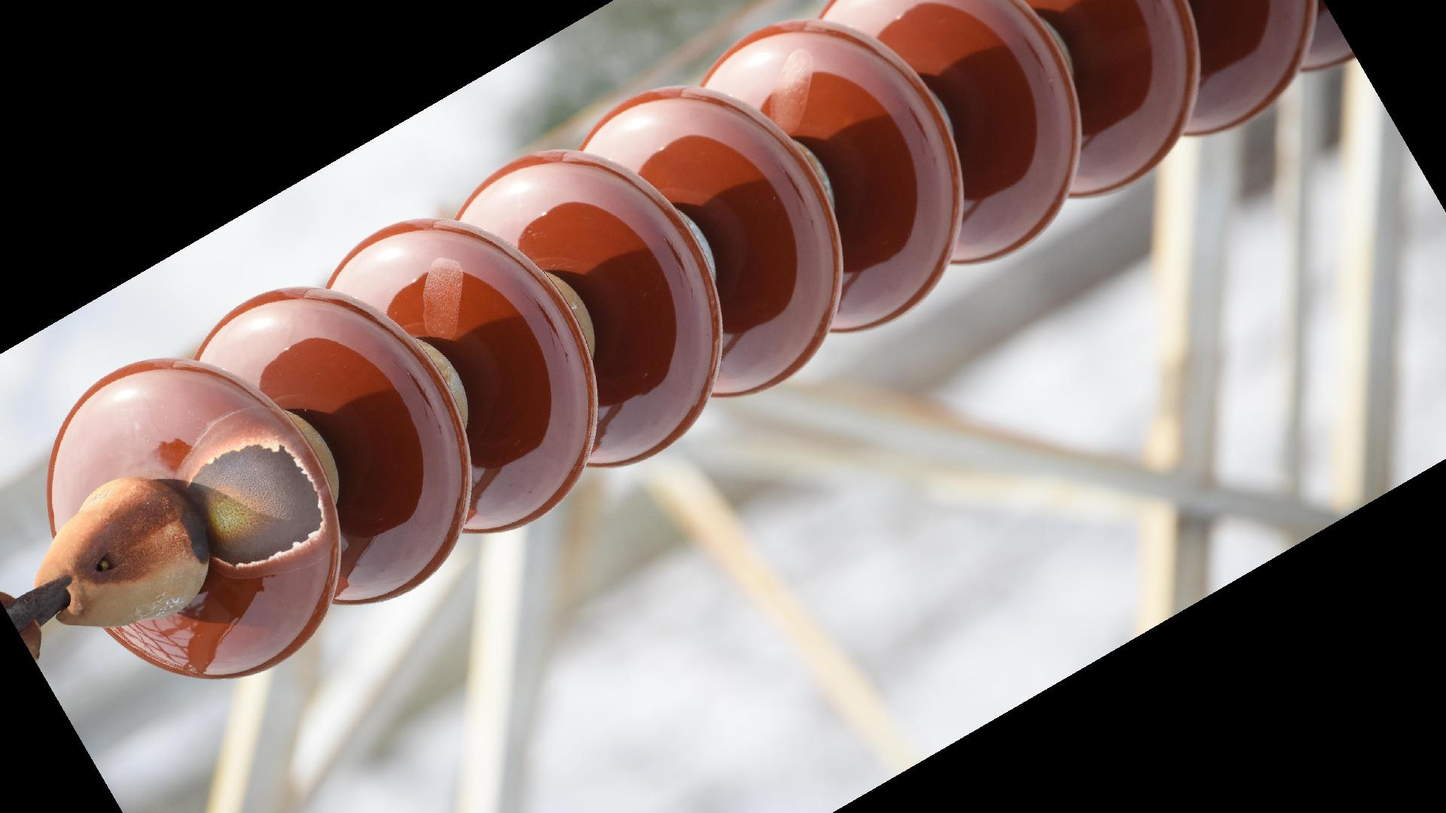insulator: (40, 1, 1361, 687)
insulator_flashover: (178, 436, 327, 575)
